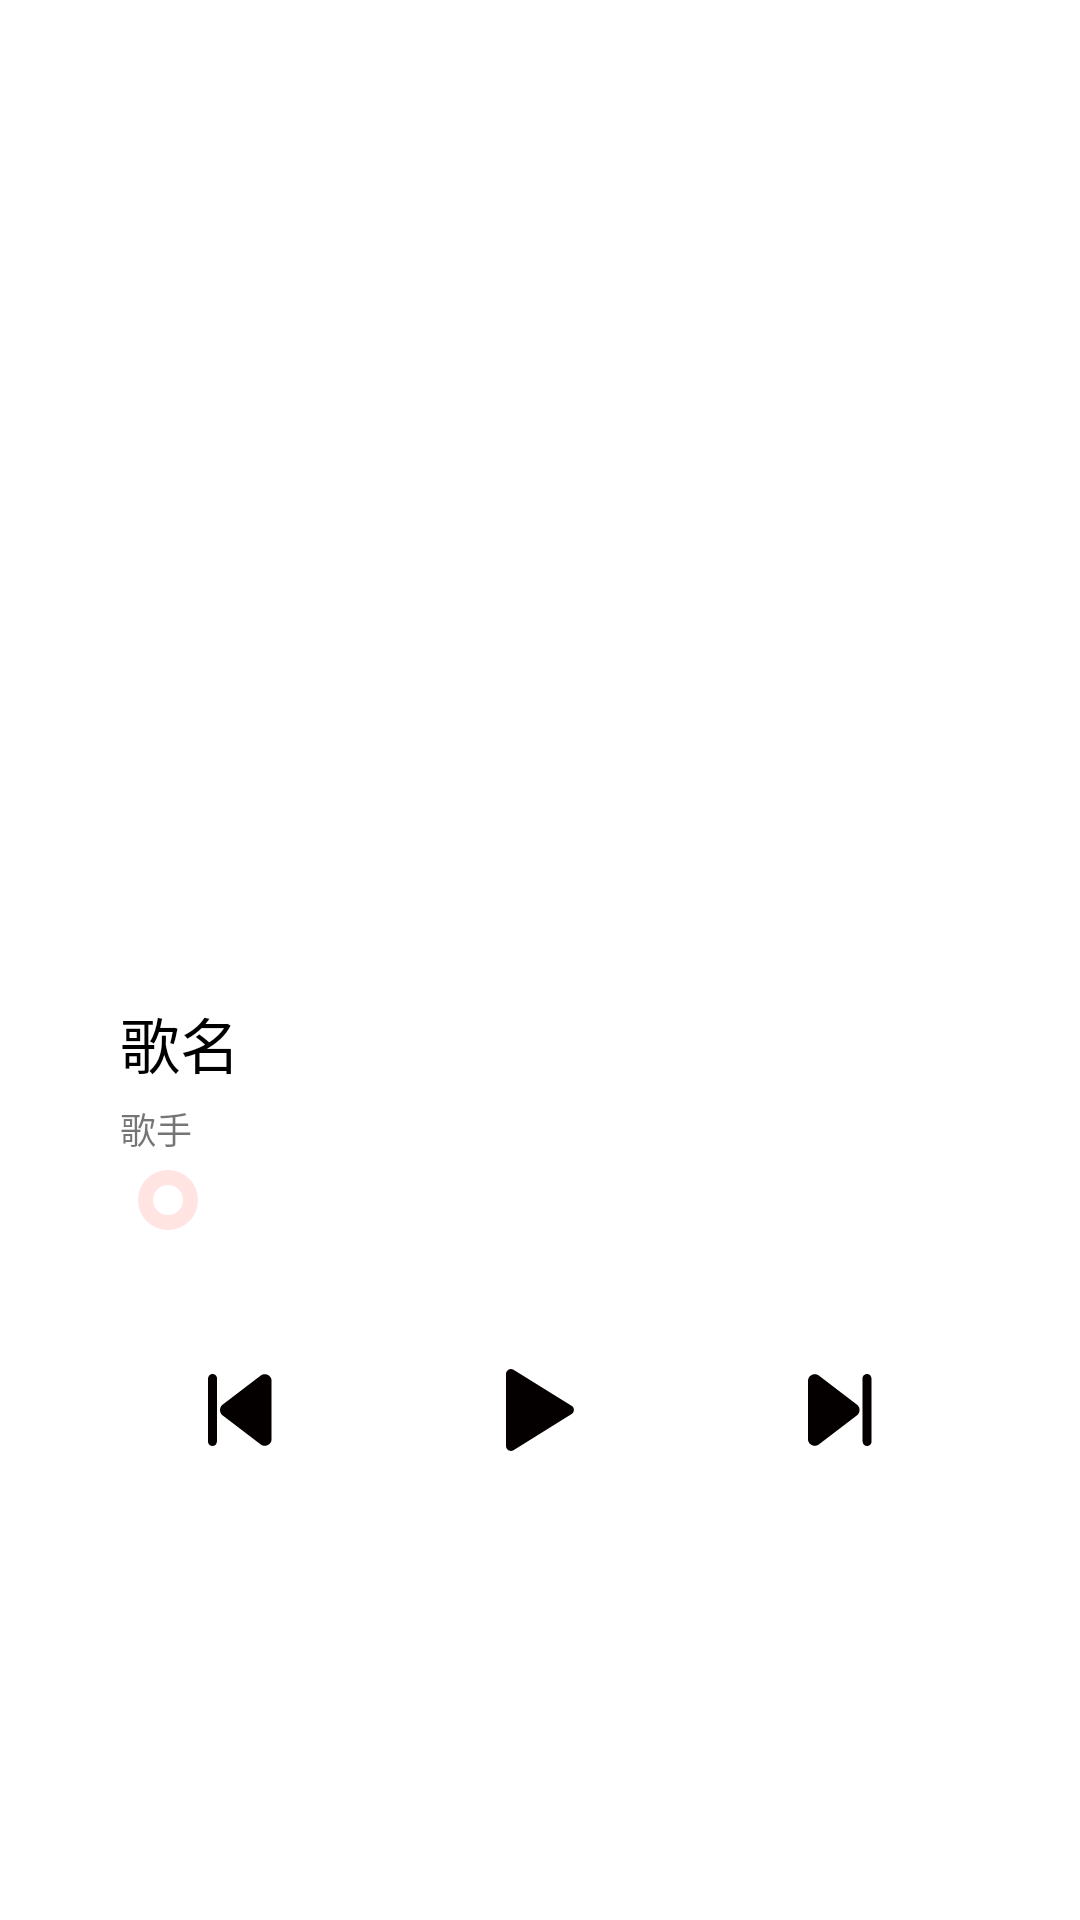

Icon bounding boxes for this 1080x1920 phone screenshot, format (left=x1, top=y1, right=x2, bottom=y2):
music last: (left=208, top=1374, right=272, bottom=1446)
music next: (left=808, top=1374, right=872, bottom=1446)
music start: (left=506, top=1369, right=574, bottom=1451)
